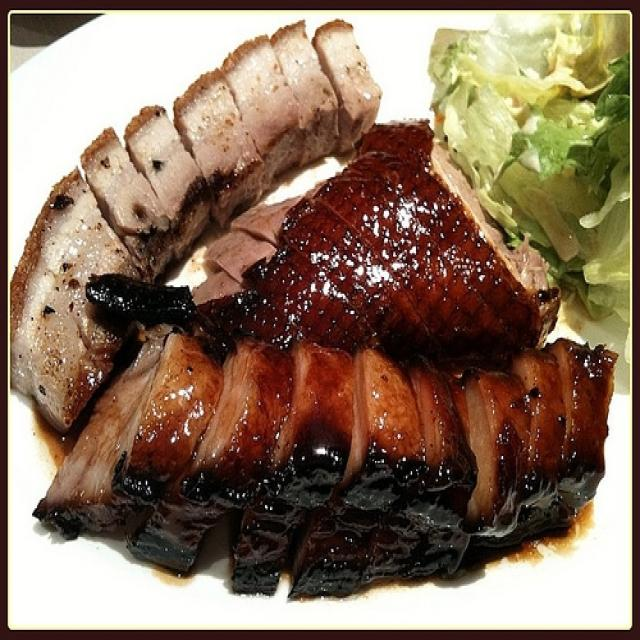烧串烤肉: (19, 30, 609, 613)
